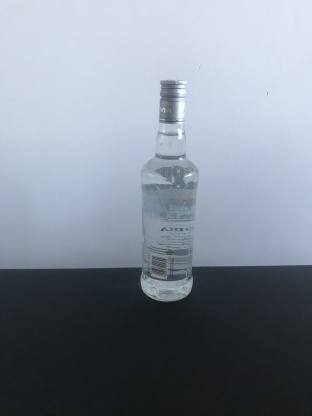nakretka: (158, 76, 187, 124)
